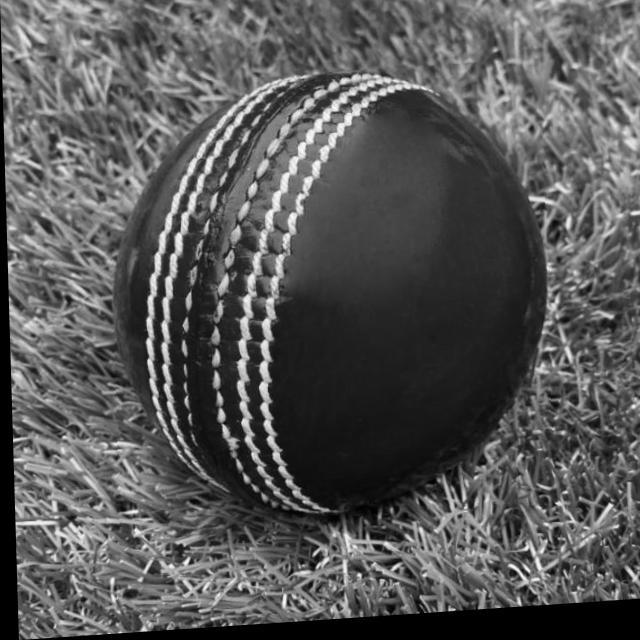cricket ball: (111, 77, 546, 520)
